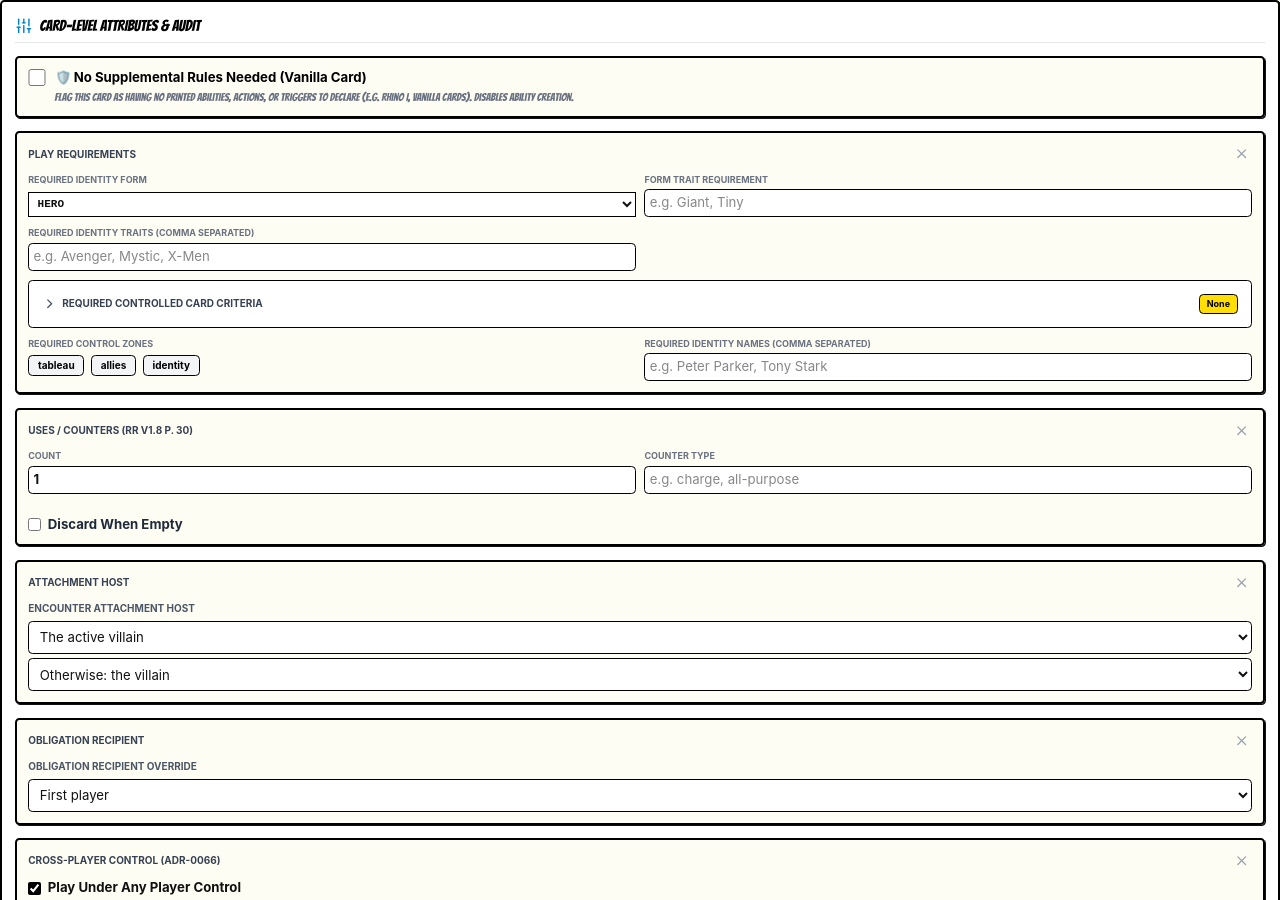
Scenario: CardAttributesSection card-level chip bar › the remove control of the playRequirements section deletes the key
Click the button with test id "card-chip-remove-playRequirements": point(1242, 154) [1232,144,1252,164]
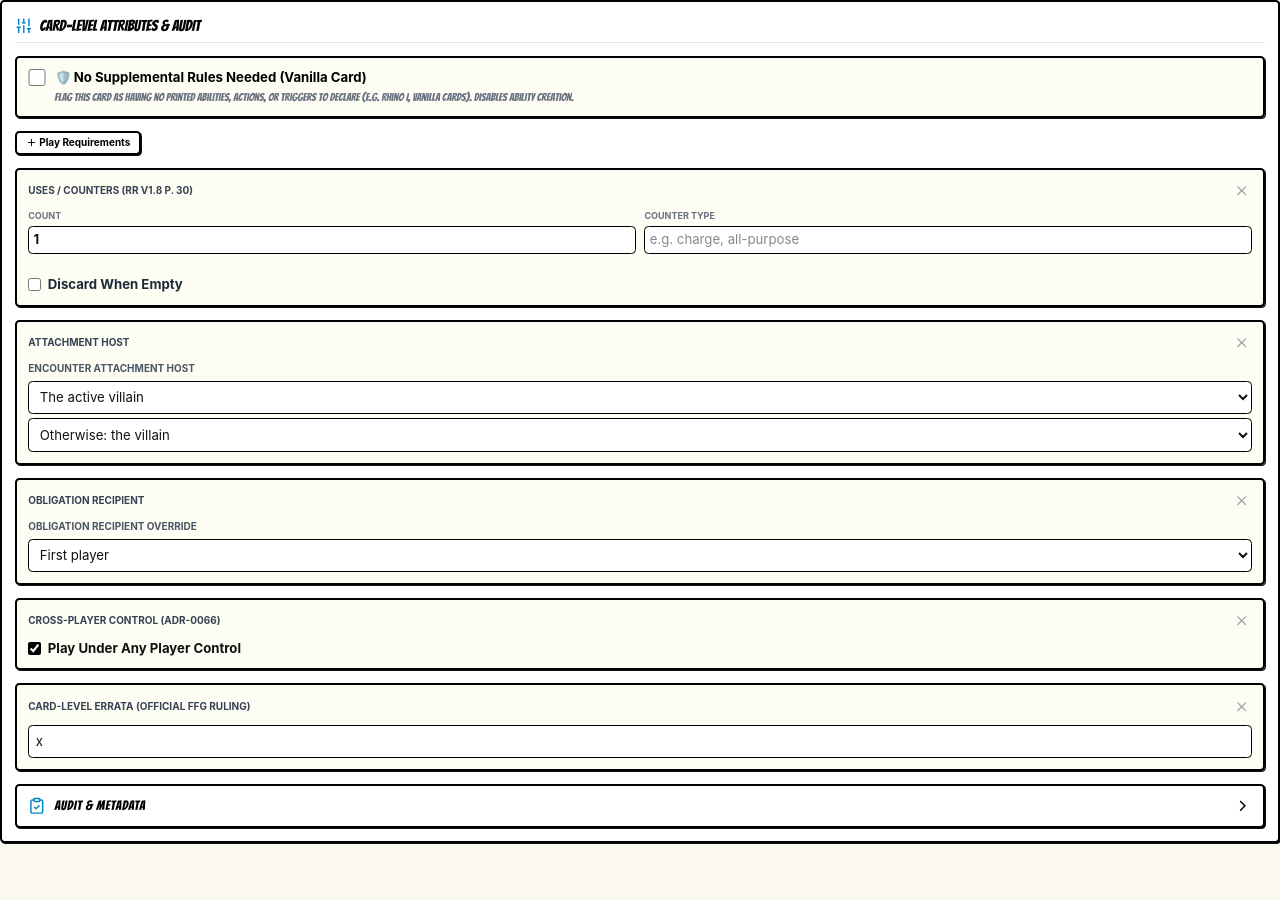
Check: the button with test id "card-chip-add-playRequirements" is shown, box [15,131,141,155]
Check: the element with test id "card-section-playRequirements" is gone
